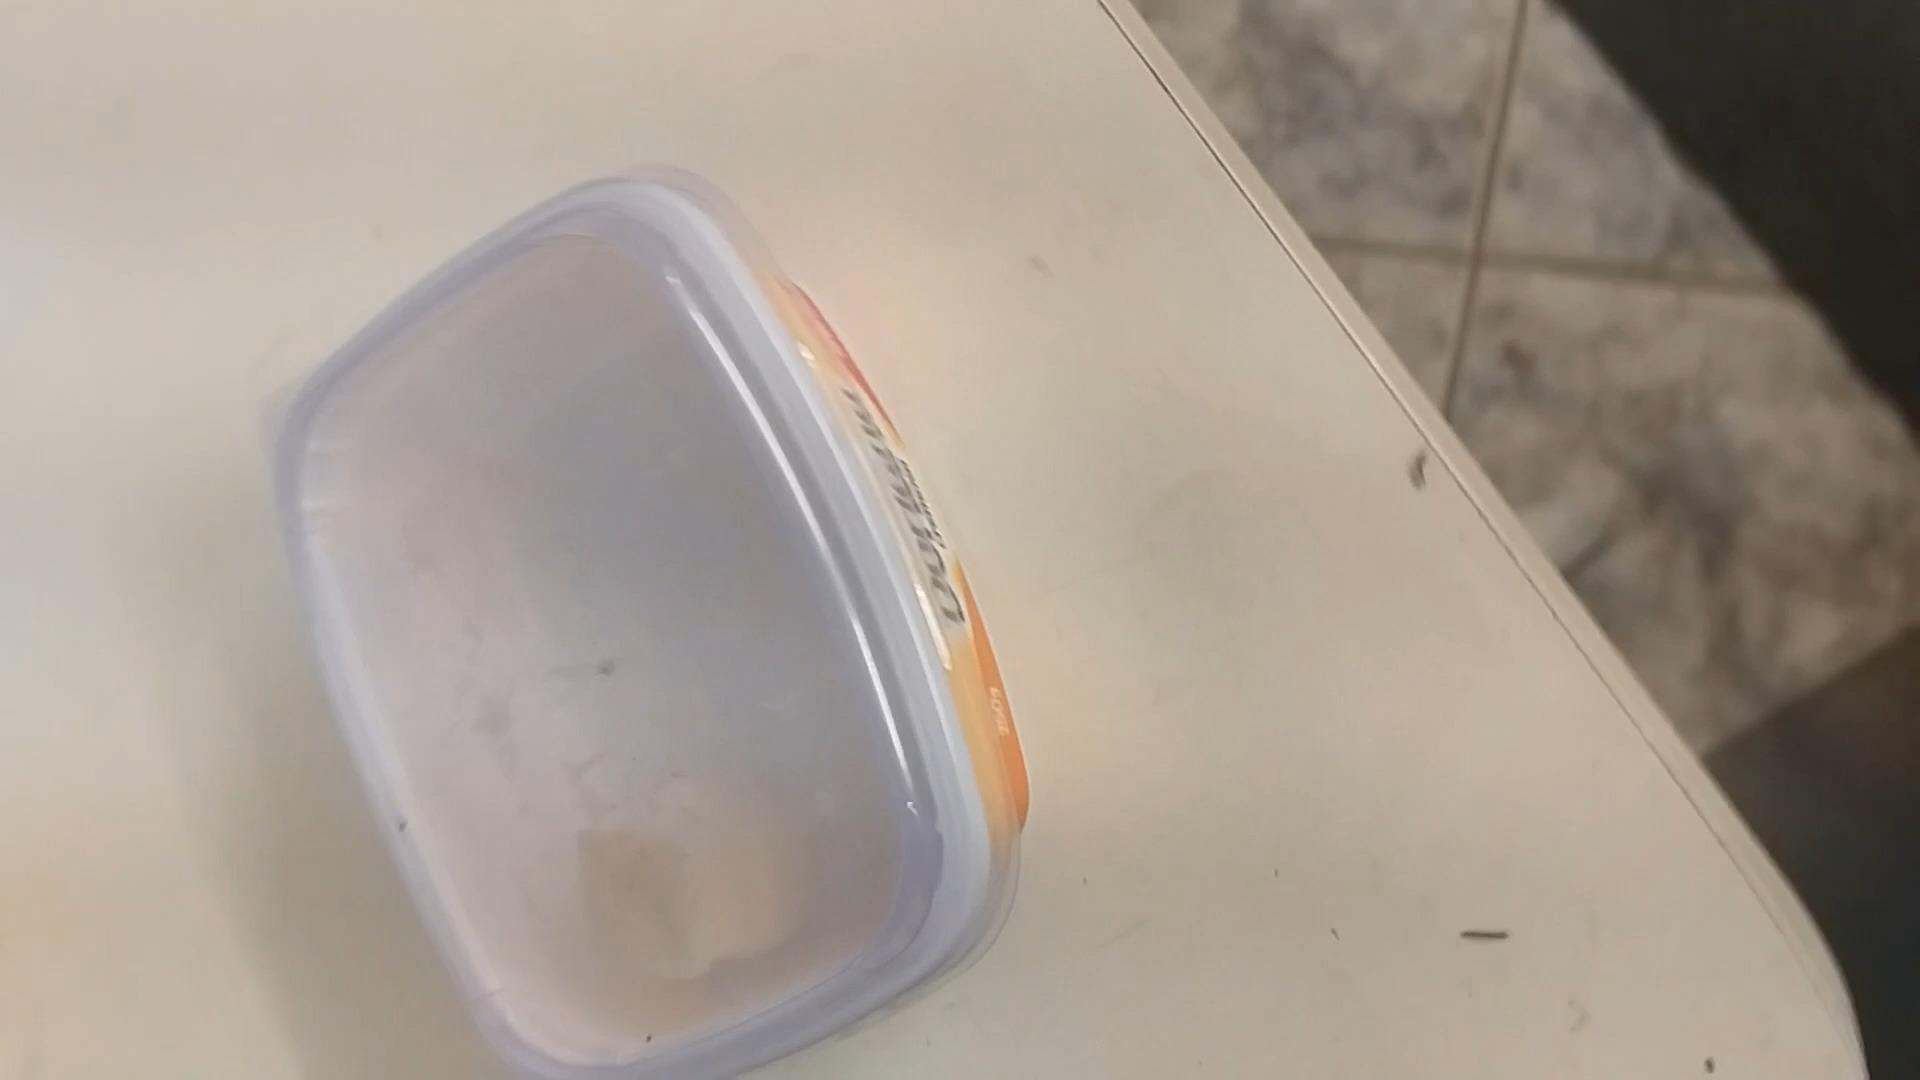butter: (277, 175, 1013, 1076)
